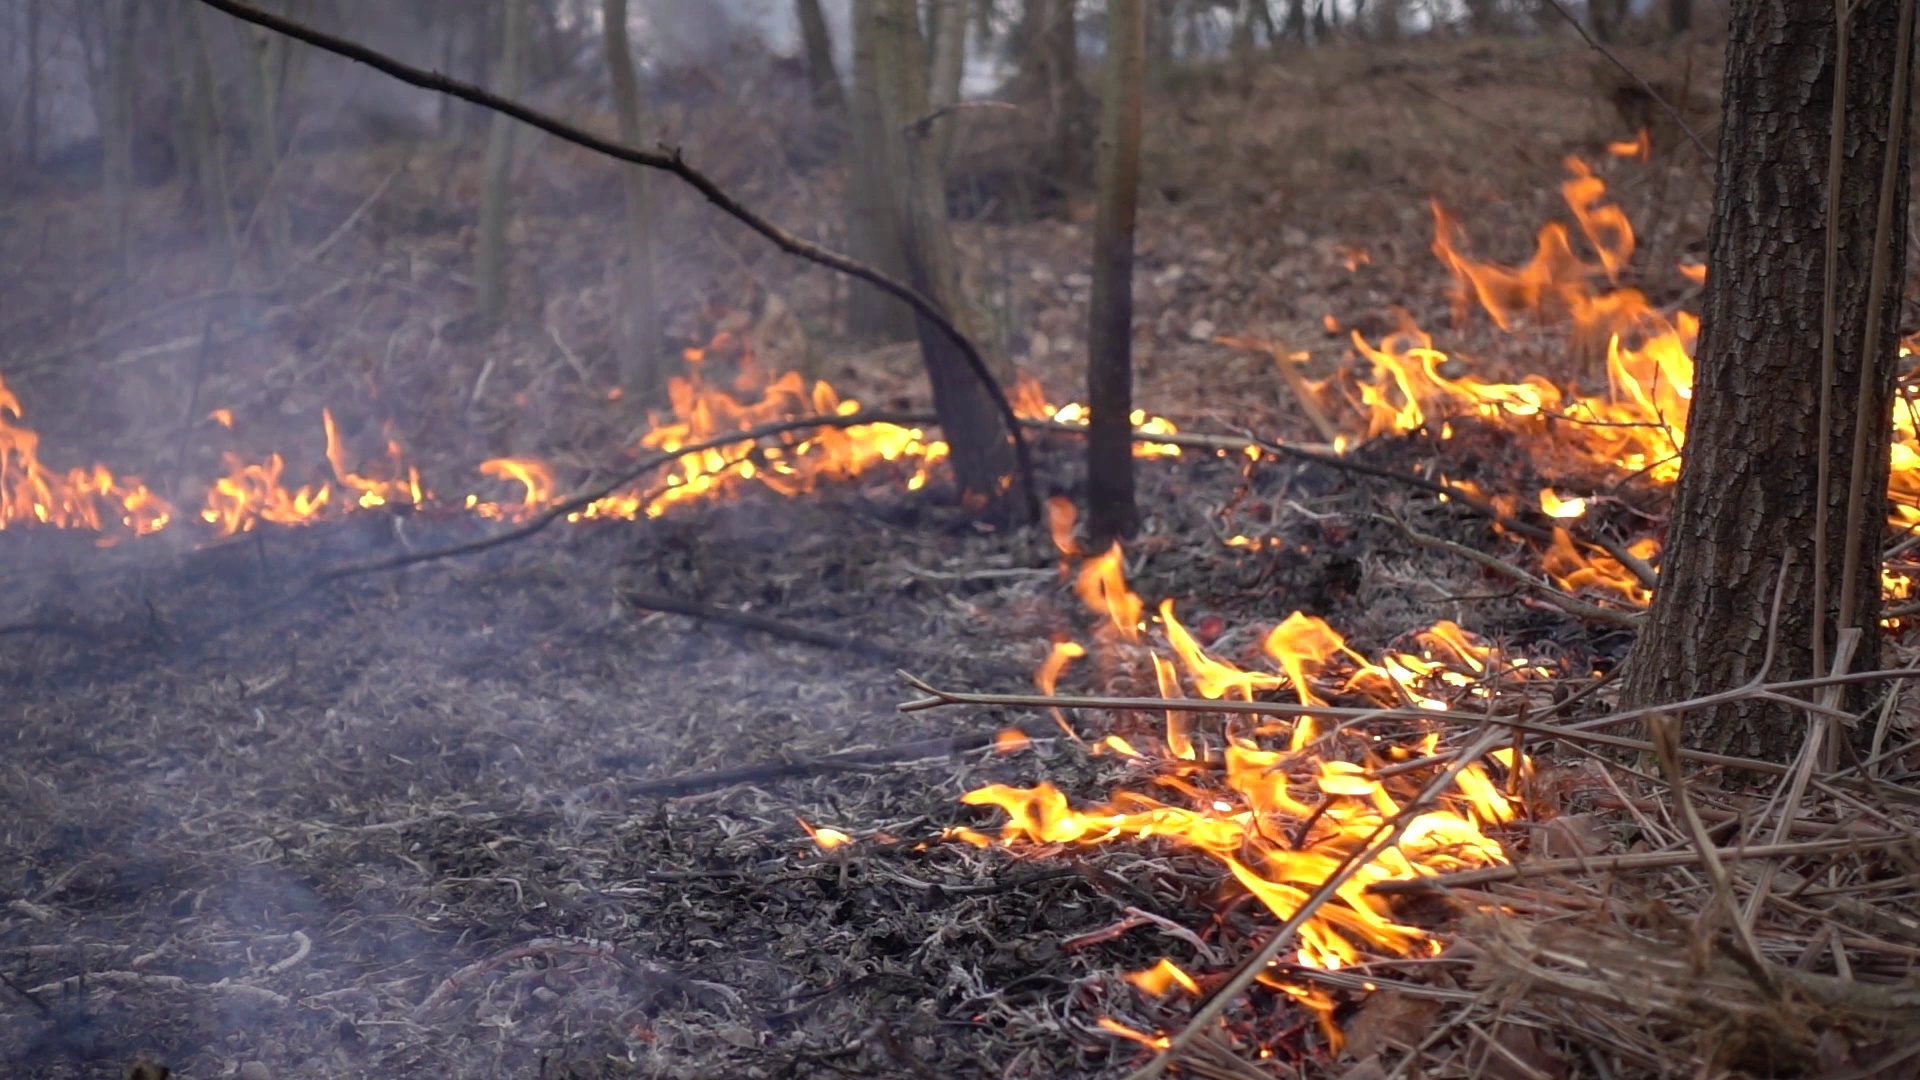fire: (965, 553, 1540, 963), (1320, 160, 1687, 487), (645, 378, 936, 498), (203, 458, 431, 535), (4, 433, 164, 531), (1894, 407, 1920, 512), (492, 458, 551, 501)
